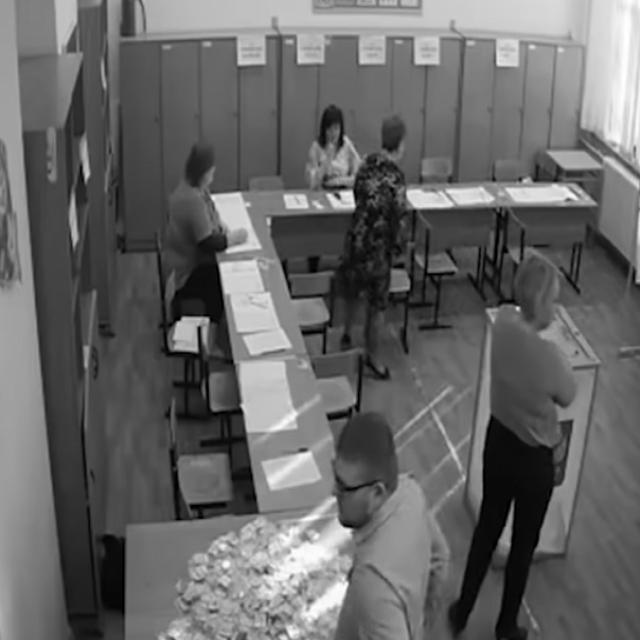Invader: (447, 249, 578, 639), (294, 409, 452, 639), (338, 113, 408, 379), (164, 141, 226, 294), (304, 104, 362, 190)
